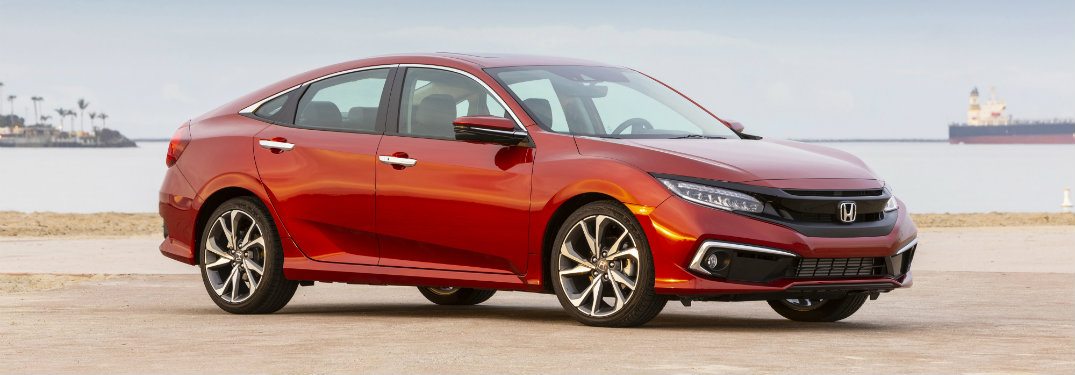car: (157, 52, 916, 329)
